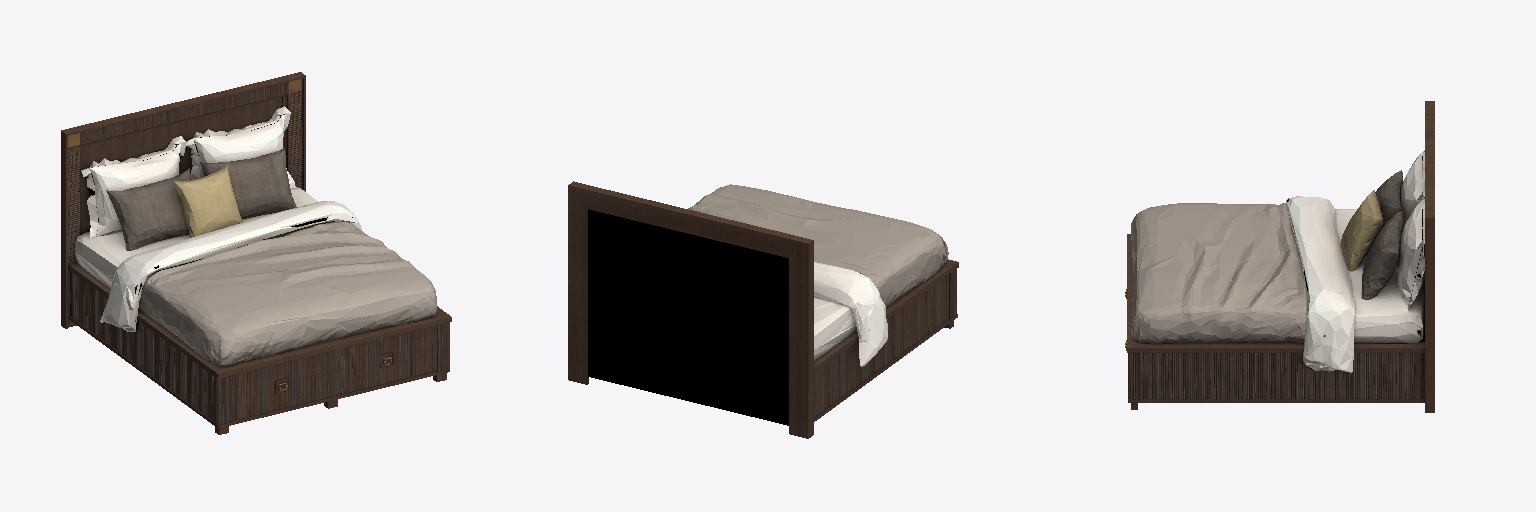
The picture shows the model from 3 angles: view 1: azimuth 30°, elevation 25°; view 2: azimuth 150°, elevation 25°; view 3: azimuth 270°, elevation 25°; orthographic projection.
Parts seen in each view (by area): view 1: solid_005, solid_004, solid_003, solid_001, solid_002; view 2: solid_005, solid_004, solid_003; view 3: solid_004, solid_005, solid_003, solid_001, solid_002.
Part boxes in pixels (left/top/right/bottom): solid_005: left=61, top=72, right=451, bottom=434; solid_004: left=138, top=221, right=436, bottom=366; solid_003: left=75, top=106, right=361, bottom=331; solid_001: left=106, top=147, right=296, bottom=250; solid_002: left=173, top=165, right=242, bottom=237; solid_005: left=568, top=181, right=958, bottom=438; solid_004: left=688, top=184, right=948, bottom=307; solid_003: left=814, top=262, right=887, bottom=366; solid_004: left=1131, top=203, right=1306, bottom=343; solid_005: left=1127, top=101, right=1434, bottom=412; solid_003: left=1286, top=150, right=1424, bottom=372; solid_001: left=1362, top=170, right=1402, bottom=299; solid_002: left=1341, top=190, right=1383, bottom=270.
Bounding box in the file's own units: 2.14 × 1.52 × 2.19.
Materials: 1 (1 with a texture image).